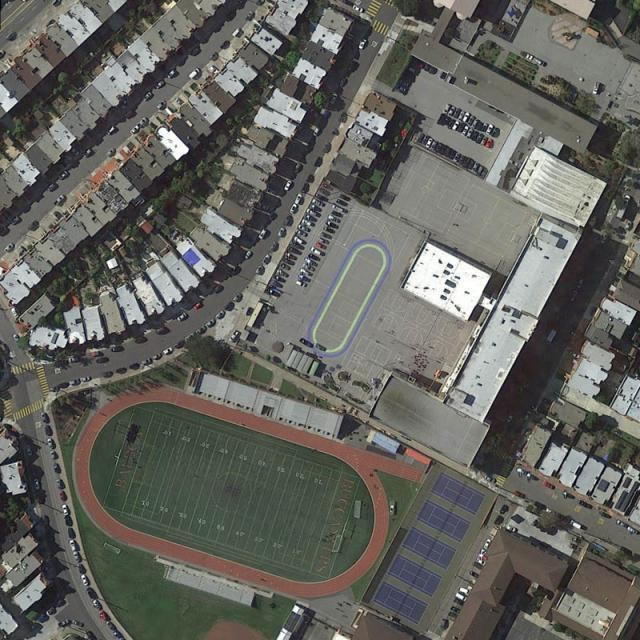vehicle: (615, 195, 631, 218), (546, 329, 557, 345), (86, 588, 98, 601), (52, 194, 65, 206), (578, 499, 592, 510), (300, 337, 314, 348), (266, 289, 281, 298), (455, 591, 467, 602), (189, 68, 201, 79), (533, 57, 546, 67), (331, 203, 344, 213), (26, 221, 39, 231), (321, 182, 335, 191), (298, 267, 312, 276), (296, 273, 310, 282), (229, 330, 240, 341), (55, 478, 66, 489), (570, 520, 582, 530), (335, 198, 348, 207), (329, 93, 338, 106), (521, 51, 534, 60), (305, 209, 319, 217), (328, 214, 342, 222), (289, 242, 303, 250), (288, 247, 302, 255), (404, 68, 415, 78), (98, 610, 108, 621), (43, 425, 53, 436), (142, 92, 153, 102), (6, 30, 16, 41), (542, 481, 554, 490), (440, 619, 449, 631), (326, 220, 338, 229), (310, 246, 322, 255), (80, 574, 89, 586), (61, 504, 70, 516), (46, 438, 55, 450), (48, 385, 60, 394), (599, 511, 612, 519), (330, 210, 343, 218), (305, 214, 318, 222), (285, 253, 298, 261), (282, 258, 295, 266), (302, 264, 315, 272), (270, 280, 283, 288), (314, 343, 327, 351), (499, 504, 509, 514), (63, 516, 73, 526), (4, 243, 14, 253), (137, 117, 147, 127), (399, 79, 410, 88), (294, 163, 303, 174), (213, 285, 224, 294), (72, 551, 81, 562), (53, 463, 62, 474), (41, 412, 50, 423), (47, 183, 58, 192), (514, 490, 526, 498), (484, 538, 492, 550), (570, 290, 578, 302), (486, 123, 494, 135), (358, 38, 366, 50), (339, 194, 351, 202), (315, 194, 327, 202), (323, 226, 335, 234), (295, 229, 307, 237), (315, 242, 327, 250), (303, 258, 315, 266), (277, 270, 289, 278), (70, 539, 78, 551), (314, 156, 322, 168), (311, 199, 324, 206), (309, 205, 322, 212), (308, 254, 321, 261), (494, 516, 504, 525), (475, 134, 484, 144), (435, 143, 444, 153), (283, 181, 292, 191), (294, 194, 303, 204), (262, 254, 272, 263), (255, 266, 265, 275), (215, 310, 225, 319), (205, 318, 215, 327), (106, 622, 116, 631), (92, 600, 101, 610), (59, 170, 69, 179), (129, 126, 139, 135), (232, 27, 241, 37), (459, 586, 470, 594), (450, 606, 461, 614), (438, 114, 446, 125), (458, 122, 466, 133), (461, 126, 469, 137), (425, 138, 433, 149), (129, 362, 140, 370), (68, 378, 79, 386), (154, 81, 165, 89), (484, 475, 496, 482), (593, 82, 600, 94), (352, 5, 364, 12), (298, 225, 310, 232), (318, 238, 330, 245), (294, 280, 306, 287), (110, 346, 124, 352), (115, 367, 127, 374), (101, 371, 113, 378), (58, 619, 70, 626), (516, 466, 525, 475), (470, 570, 479, 579), (86, 631, 95, 640), (77, 565, 86, 574), (106, 148, 115, 157), (245, 10, 254, 19), (476, 558, 486, 566), (478, 553, 488, 561), (454, 598, 464, 606), (442, 104, 450, 114), (462, 112, 470, 122), (467, 115, 475, 125), (471, 131, 479, 141), (458, 155, 466, 165), (430, 141, 438, 151), (396, 85, 406, 93), (339, 77, 347, 87), (290, 204, 298, 214), (277, 227, 285, 237), (302, 218, 312, 226), (321, 231, 331, 239), (38, 614, 48, 622), (46, 607, 56, 615), (58, 490, 66, 500), (66, 530, 76, 538), (12, 334, 22, 342), (12, 217, 22, 225), (1, 226, 9, 236), (82, 149, 92, 157), (106, 126, 116, 134), (10, 307, 18, 317), (71, 620, 84, 626), (563, 492, 574, 499), (506, 525, 517, 532), (570, 351, 581, 358), (135, 337, 146, 344), (453, 153, 461, 162), (233, 294, 242, 302), (178, 313, 187, 321), (167, 70, 176, 78), (302, 183, 310, 192), (447, 107, 457, 114), (447, 119, 454, 129), (480, 136, 487, 146), (486, 138, 493, 148), (463, 157, 470, 167), (441, 144, 448, 154), (283, 216, 290, 226), (186, 334, 196, 341), (174, 341, 184, 348), (141, 358, 151, 365), (156, 102, 166, 109), (68, 357, 79, 363), (34, 479, 40, 490), (454, 109, 462, 117), (417, 134, 425, 142), (244, 250, 252, 258), (270, 242, 278, 250), (194, 302, 202, 310), (225, 302, 233, 310), (198, 326, 206, 334), (154, 352, 162, 360), (50, 451, 58, 459), (70, 147, 78, 155), (627, 527, 636, 534), (448, 611, 457, 618), (453, 121, 460, 130), (458, 111, 465, 120), (471, 119, 478, 128), (466, 129, 473, 138), (473, 163, 480, 172), (423, 135, 430, 144), (259, 230, 266, 239), (293, 237, 302, 244), (275, 275, 284, 282), (157, 327, 166, 334), (163, 347, 172, 354), (468, 160, 474, 170), (80, 376, 90, 382), (58, 382, 68, 388), (474, 562, 482, 569), (506, 415, 513, 423), (313, 128, 321, 135), (307, 174, 314, 182), (524, 410, 530, 419), (492, 128, 498, 137), (450, 150, 456, 159), (445, 148, 451, 157), (281, 264, 290, 270), (92, 351, 101, 357), (113, 632, 122, 638), (96, 358, 109, 362), (616, 521, 626, 526), (475, 122, 482, 129), (481, 123, 487, 131), (26, 446, 32, 454), (445, 118, 450, 126), (478, 166, 482, 175), (520, 428, 525, 434)
